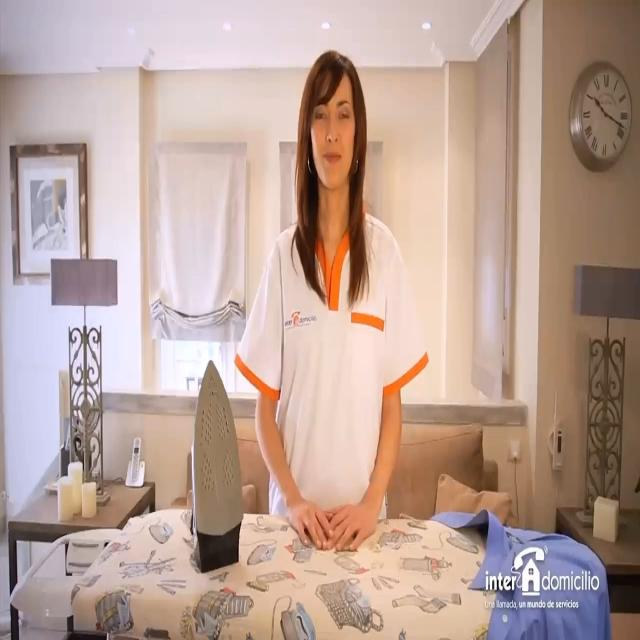Shirt: (233, 205, 430, 521), (430, 508, 612, 640)
